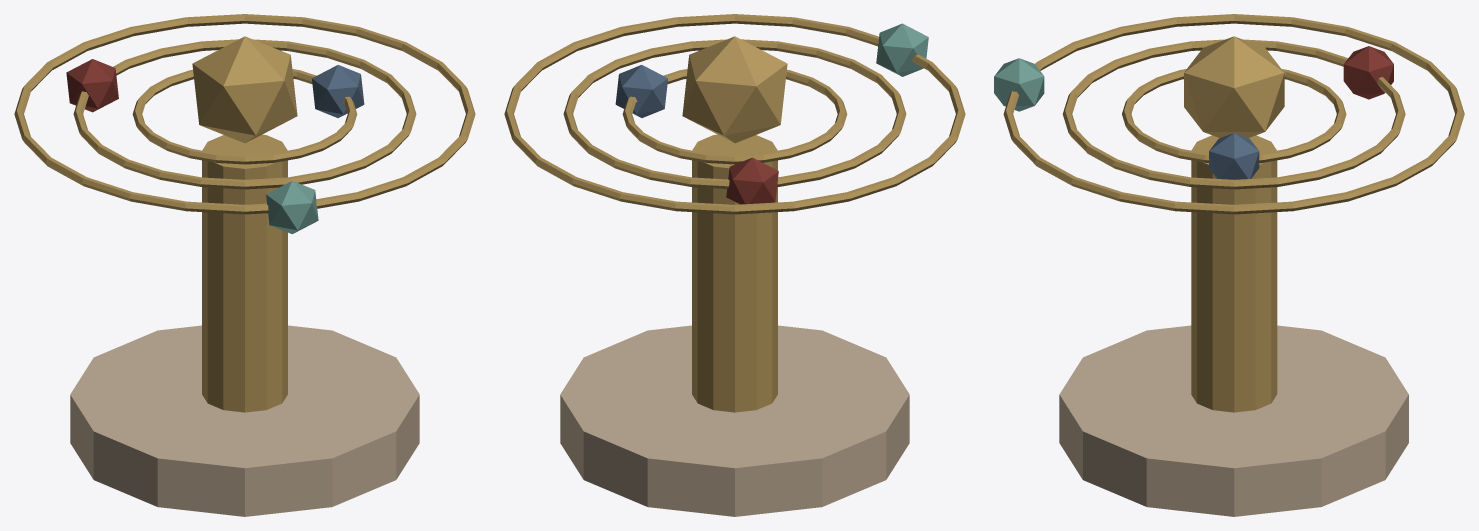
File: var_orrery.glb
3 views of the same model, side by side, from view 1: azimuth 30°, elevation 25°; view 2: azimuth 150°, elevation 25°; view 3: azimuth 270°, elevation 25° (orthographic).
Parts seen in each view (by area): view 1: var_orrery; view 2: var_orrery; view 3: var_orrery.
Boxes of the visible parts, left/top/right/bottom form: var_orrery: left=14, top=14, right=475, bottom=516; var_orrery: left=504, top=14, right=965, bottom=516; var_orrery: left=994, top=14, right=1464, bottom=516.
Bounding box in the file's own units: 1.72 × 1.67 × 1.75.
